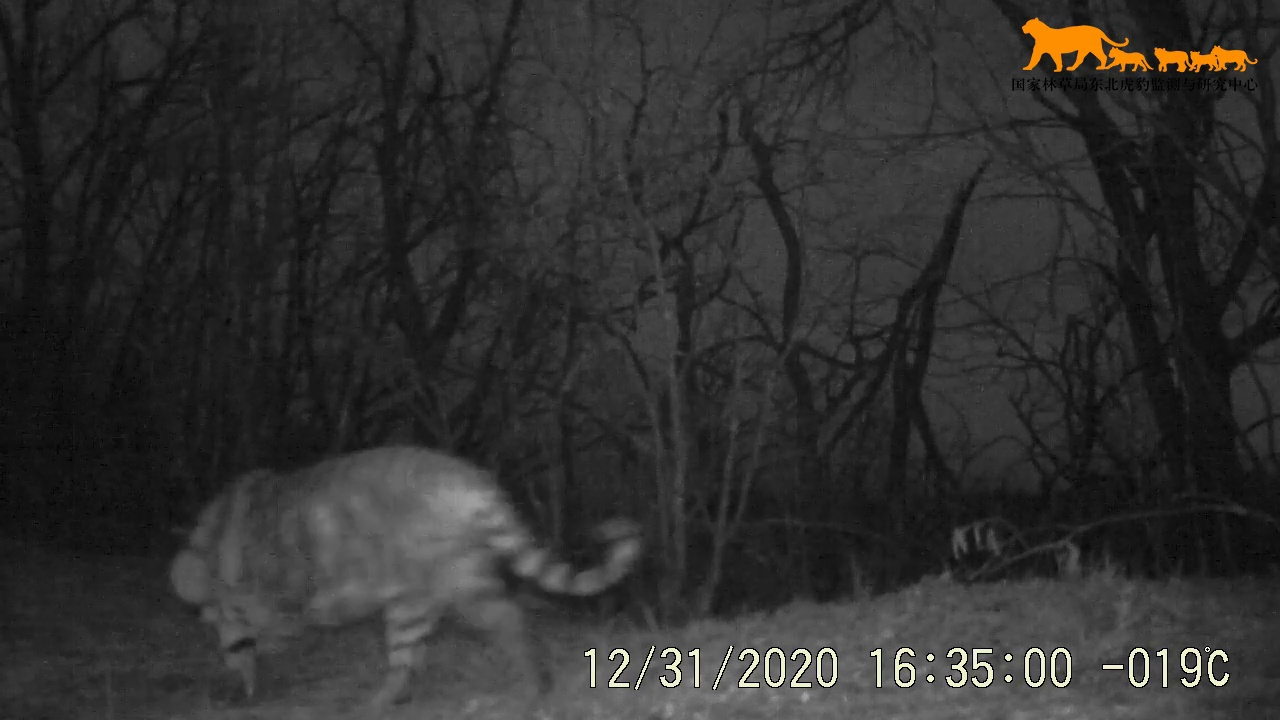Tiger: (111, 215, 661, 711)
